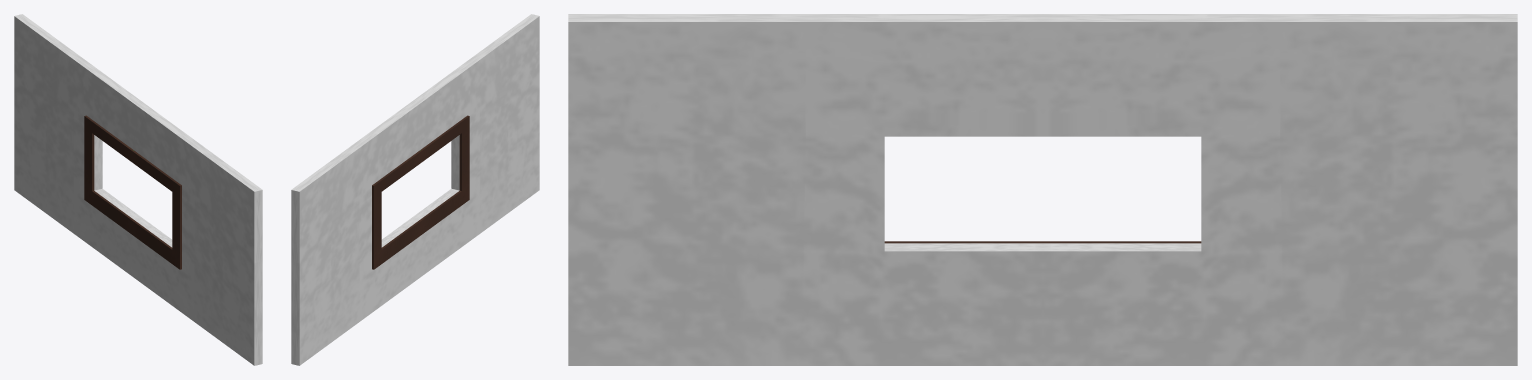
The model's file is WindowWAll.FBX.
The picture shows the model from 3 angles, left to right: view 1: azimuth 30°, elevation 25°; view 2: azimuth 150°, elevation 25°; view 3: azimuth 270°, elevation 25°; orthographic projection. The views are drawn at different scales.
Parts seen in each view (by area): view 1: WindowWall; view 2: WindowWall; view 3: WindowWall.
Part boxes in pixels (bbox=[...]): WindowWall: bbox=[14, 14, 262, 365]; WindowWall: bbox=[291, 14, 539, 365]; WindowWall: bbox=[568, 14, 1517, 365].
Bounding box in the file's own units: 24.74 × 394 × 985.
